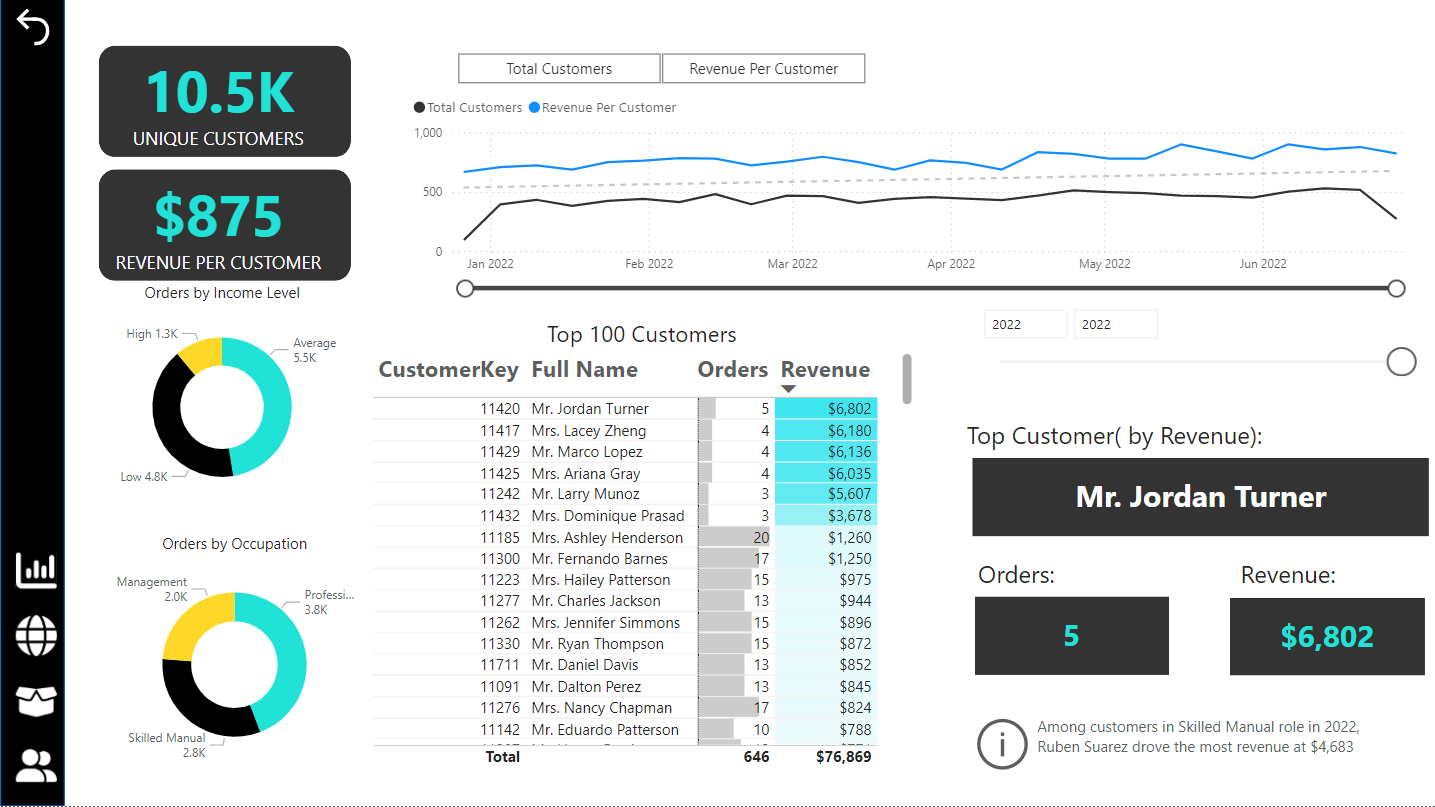

The dashboard page shown, as its layout file describes it:
{"tool":"powerbi","page":{"name":"Customer Detail","canvas":[1280,720],"ordinal":3},"visuals":[{"type":"shape","box":[0,0,57.7,719.9],"z":0},{"type":"actionButton","box":[9.7,487.4,76,44.6],"z":1000,"group":"g1"},{"type":"shape","box":[88.2,42.7,224.7,99.6],"z":1000},{"type":"actionButton","box":[9.7,545.3,76,44.6],"z":2000,"group":"g1"},{"type":"shape","box":[88.2,152.2,224.7,99.6],"z":2000},{"type":"card","fields":{"Values":["Measure Table.Total Customers"]},"box":[88.2,12.8,213.3,157.9],"z":3000},{"type":"actionButton","box":[9.7,604.4,76,44.6],"z":3000,"group":"g1"},{"type":"card","fields":{"Values":["Measure Table.Average Revenue Per Customer"]},"box":[82.5,123.7,224.7,156.4],"z":4000},{"type":"actionButton","box":[9.7,661.1,76,44.6],"z":4000,"group":"g1"},{"type":"donutChart","title":" Orders by Income Level","fields":{"Category":["Customer Lookup.Income Level"],"Y":["Measure Table.Total Orders"]},"box":[85.7,252.1,224.4,206.3],"z":5000},{"type":"donutChart","title":" Orders by Occupation","fields":{"Y":["Measure Table.Total Orders"],"Category":["Customer Lookup.Occupation"]},"box":[96.5,476.5,224.4,217.2],"z":6000},{"type":"tableEx","title":"Top 100 Customers","fields":{"Values":["Customer Lookup.CustomerKey","Customer Lookup.Full Name","Measure Table.Total Orders","Measure Table.Total Revenue"]},"box":[325.7,284.7,491,404.2],"z":7000},{"type":"card","fields":{"Values":["Calendar Lookup.Full Name (Customer Detail)"]},"box":[866.2,409.1,406.8,69.7],"z":8000},{"type":"textbox","box":[856.6,369.2,314.9,74.8],"z":9000},{"type":"card","fields":{"Values":["Measure Table.Total Orders (Customer Detail)"]},"box":[867.9,532.8,172.5,70],"z":10000},{"type":"card","fields":{"Values":["Measure Table.Total Revenue (Customer Detail)"]},"box":[1095.4,534.5,173.7,68.8],"z":11000},{"type":"textbox","box":[866.2,493.1,173.5,39.8],"z":12000},{"type":"textbox","box":[1099.4,493.1,173.5,56.9],"z":13000},{"type":"slicer","fields":{"Values":["Calendar Lookup.Year"]},"box":[863.8,252.1,405.4,97.7],"z":14000},{"type":"actionButton","box":[863.8,635.8,361.9,57.9],"z":15000},{"type":"actionButton","box":[7.2,2.4,43.4,47.1],"z":16000},{"type":"group","id":"g1","title":"Navigation Buttons","box":[9.7,487.4,76,218.4],"z":17000},{"type":"lineChart","fields":{"Y":["Measure Table.Total Customers","Measure Table.Average Revenue Per Customer"],"Category":["Calendar Lookup.Date Hierarchy.Start of Year","Calendar Lookup.Date Hierarchy.Start of Month","Calendar Lookup.Date Hierarchy.Start of Week","Calendar Lookup.Date Hierarchy.Date"]},"box":[363.1,78.4,906.4,191.7],"z":25000},{"type":"slicer","fields":{"Values":["Customer Metric Selection .Customer Metric Selection "]},"box":[382,42.1,412.5,36.3],"z":25500}]}

Visuals, with their boxes on the page's 1280x720 design canvas (x1, y1, x2, y2). These are canvas units, not pixel positions in the 1435x807 screenshot, which may show the page scaled, cropped or inside an application window:
shape: [left=0, top=0, right=58, bottom=720]
actionButton: [left=10, top=487, right=86, bottom=532]
shape: [left=88, top=43, right=313, bottom=142]
actionButton: [left=10, top=545, right=86, bottom=590]
shape: [left=88, top=152, right=313, bottom=252]
card - Measure Table.Total Customers: [left=88, top=13, right=302, bottom=171]
actionButton: [left=10, top=604, right=86, bottom=649]
card - Measure Table.Average Revenue Per Customer: [left=82, top=124, right=307, bottom=280]
actionButton: [left=10, top=661, right=86, bottom=706]
" Orders by Income Level" donutChart: [left=86, top=252, right=310, bottom=458]
" Orders by Occupation" donutChart: [left=96, top=476, right=321, bottom=694]
"Top 100 Customers" tableEx: [left=326, top=285, right=817, bottom=689]
card - Calendar Lookup.Full Name (Customer Detail): [left=866, top=409, right=1273, bottom=479]
textbox: [left=857, top=369, right=1172, bottom=444]
card - Measure Table.Total Orders (Customer Detail): [left=868, top=533, right=1040, bottom=603]
card - Measure Table.Total Revenue (Customer Detail): [left=1095, top=534, right=1269, bottom=603]
textbox: [left=866, top=493, right=1040, bottom=533]
textbox: [left=1099, top=493, right=1273, bottom=550]
slicer - Calendar Lookup.Year: [left=864, top=252, right=1269, bottom=350]
actionButton: [left=864, top=636, right=1226, bottom=694]
actionButton: [left=7, top=2, right=51, bottom=50]
"Navigation Buttons" group: [left=10, top=487, right=86, bottom=706]
lineChart - Measure Table.Total Customers x Measure Table.Average Revenue Per Customer: [left=363, top=78, right=1270, bottom=270]
slicer - Customer Metric Selection .Customer Metric Selection : [left=382, top=42, right=794, bottom=78]
